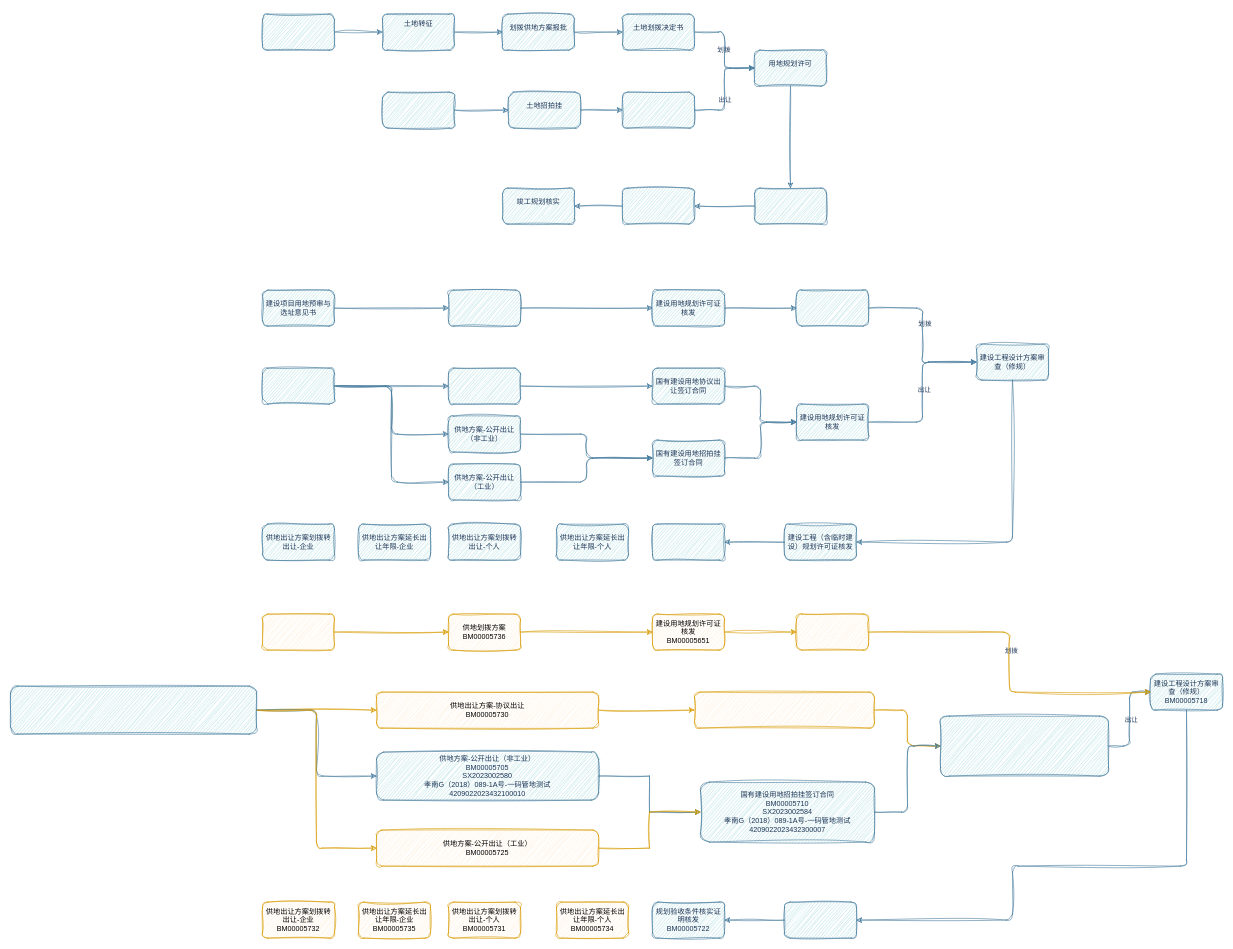
Some shapes in this 1233 by 949 pixel diagram are drawn without their labels. Each missing label, with the centre of its shape:
供地出让方案-协议出让: (484,386)
供地划拨方案: (484,308)
划拨国有建设用地颁发划拨决定书: (832,308)
划拨国有建设用地颁发划拨决定书 BM00005707: (832,632)
国有建设用地协议出让签订合同 BM00005711: (784,710)
土地出让合同: (658,110)
工程规划许可: (658,206)
建设工程（含临时建设）规划许可证核发 BM00005712: (820,920)
建设用地规划许可证核发 BM00005651 SX2023002570 丹阳古镇-一码管地测试 4209022023433000011: (1024,746)
建设项目用地预审与选址意见书 BM00005694: (298,632)
规划技术指标: (298,386)
规划技术指标 BM00005702 SX2023002578 孝南G（2018）089-1A号-一码管地测试 4209022023431000001: (133,710)
规划条件: (418,110)
规划验收条件核实证明核发: (688,542)
设计方案审查: (790,206)
预审与选址: (298,32)
